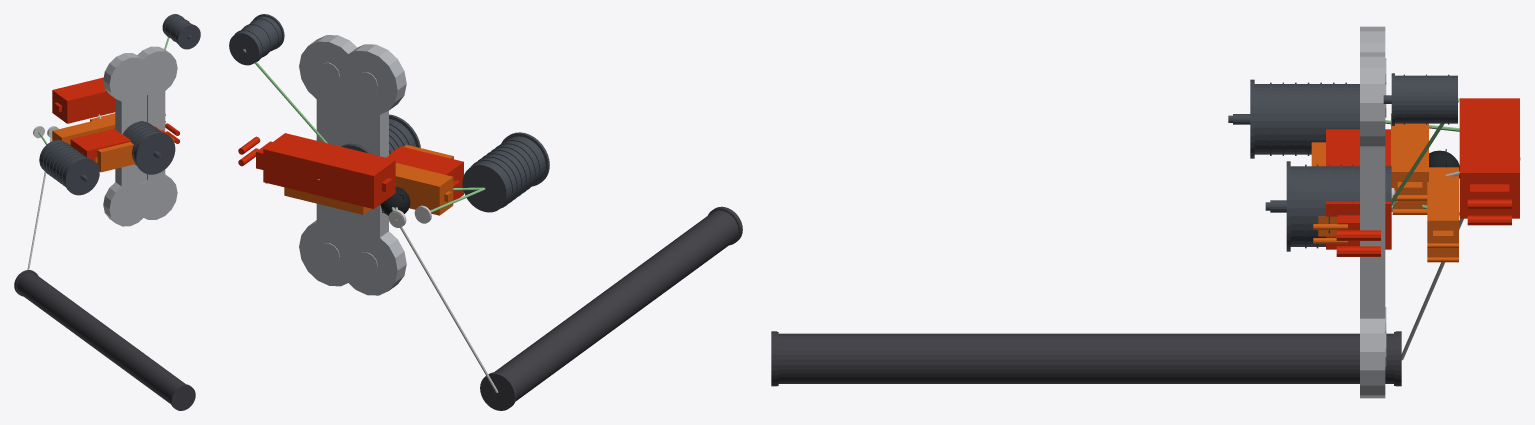
Rendered from gen79.glb.
3 renders of one model, left to right at view 1: azimuth 30°, elevation 25°; view 2: azimuth 150°, elevation 25°; view 3: azimuth 270°, elevation 25°, orthographic. The views are drawn at different scales.
Parts seen in each view (by area): view 1: alloy_chassis_46010e8b_x_x, carbon_tube_fb4a1dca, brushless_motor_dac1ba68_x_x, high_power_lipo_53606a64, brushless_motor_dac1ba68_x_x_x_x, high_power_lipo_4b6909da, brushless_motor_compact_84b8d6d2_x_x, compact_lipo_95078d9e, compact_lipo_73f04445_x_x, joint_fb4a1dca_7f0c5bce; view 2: alloy_chassis_46010e8b_x_x, carbon_tube_fb4a1dca, high_power_lipo_53606a64, brushless_motor_dac1ba68_x_x, compact_lipo_73f04445_x_x, brushless_motor_compact_84b8d6d2_x_x, high_power_lipo_4b6909da, brushless_motor_dac1ba68_x_x_x_x, compact_lipo_3f46917b_x_x, joint_fb4a1dca_7f0c5bce, sprint_foot_7888ecf7_x_x; view 3: carbon_tube_fb4a1dca, alloy_chassis_46010e8b_x_x, high_power_lipo_53606a64, brushless_motor_dac1ba68_x_x, brushless_motor_dac1ba68_x_x_x_x, high_power_lipo_4b6909da, brushless_motor_compact_84b8d6d2_x_x, compact_lipo_73f04445_x_x, compact_lipo_3f46917b_x_x, compact_lipo_95078d9e.
Part boxes in pixels (bbox=[...]): alloy_chassis_46010e8b_x_x: bbox=[103, 46, 177, 226]; carbon_tube_fb4a1dca: bbox=[14, 270, 195, 410]; brushless_motor_dac1ba68_x_x: bbox=[39, 140, 99, 195]; high_power_lipo_53606a64: bbox=[52, 77, 115, 123]; brushless_motor_dac1ba68_x_x_x_x: bbox=[115, 121, 175, 174]; high_power_lipo_4b6909da: bbox=[70, 123, 179, 163]; brushless_motor_compact_84b8d6d2_x_x: bbox=[162, 14, 200, 49]; compact_lipo_95078d9e: bbox=[95, 135, 175, 172]; compact_lipo_73f04445_x_x: bbox=[52, 116, 115, 144]; joint_fb4a1dca_7f0c5bce: bbox=[27, 138, 52, 269]; alloy_chassis_46010e8b_x_x: bbox=[299, 35, 406, 295]; carbon_tube_fb4a1dca: bbox=[480, 206, 742, 410]; high_power_lipo_53606a64: bbox=[238, 133, 395, 208]; brushless_motor_dac1ba68_x_x: bbox=[462, 132, 549, 212]; compact_lipo_73f04445_x_x: bbox=[395, 163, 453, 215]; brushless_motor_compact_84b8d6d2_x_x: bbox=[229, 14, 284, 65]; high_power_lipo_4b6909da: bbox=[386, 146, 463, 200]; brushless_motor_dac1ba68_x_x_x_x: bbox=[341, 114, 420, 154]; compact_lipo_3f46917b_x_x: bbox=[265, 182, 371, 214]; joint_fb4a1dca_7f0c5bce: bbox=[395, 219, 498, 393]; sprint_foot_7888ecf7_x_x: bbox=[380, 187, 410, 215]; carbon_tube_fb4a1dca: bbox=[771, 331, 1401, 386]; alloy_chassis_46010e8b_x_x: bbox=[1360, 26, 1386, 398]; high_power_lipo_53606a64: bbox=[1459, 98, 1519, 225]; brushless_motor_dac1ba68_x_x: bbox=[1228, 79, 1359, 158]; brushless_motor_dac1ba68_x_x_x_x: bbox=[1265, 161, 1391, 251]; high_power_lipo_4b6909da: bbox=[1326, 129, 1391, 256]; brushless_motor_compact_84b8d6d2_x_x: bbox=[1383, 73, 1457, 125]; compact_lipo_73f04445_x_x: bbox=[1391, 113, 1428, 214]; compact_lipo_3f46917b_x_x: bbox=[1427, 167, 1458, 262]; compact_lipo_95078d9e: bbox=[1311, 142, 1347, 243].
Size of the model in its own units: 0.3374 by 0.407 by 0.5945.
